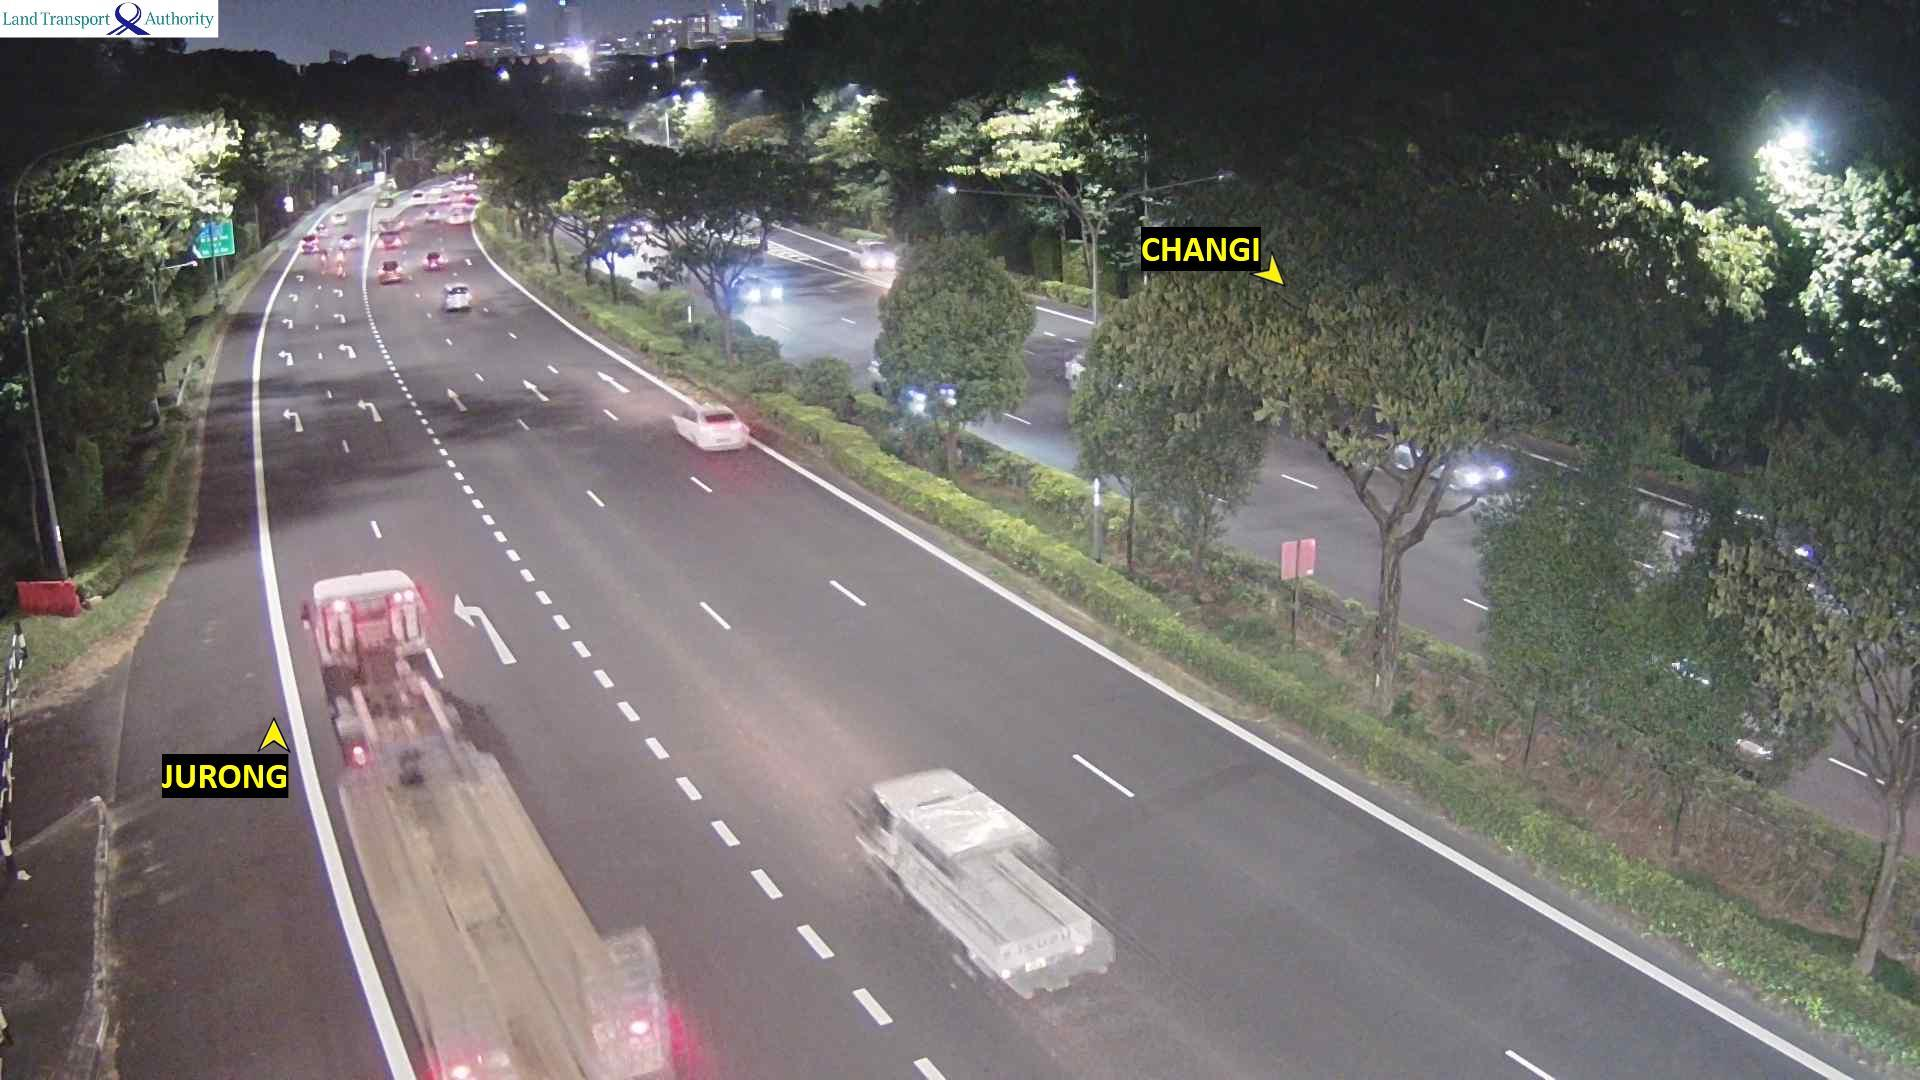incoming: (861, 244, 902, 274), (748, 277, 782, 307)
